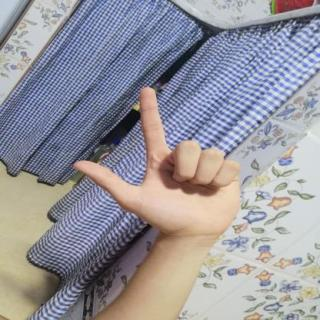LAAM: (58, 76, 250, 244)
